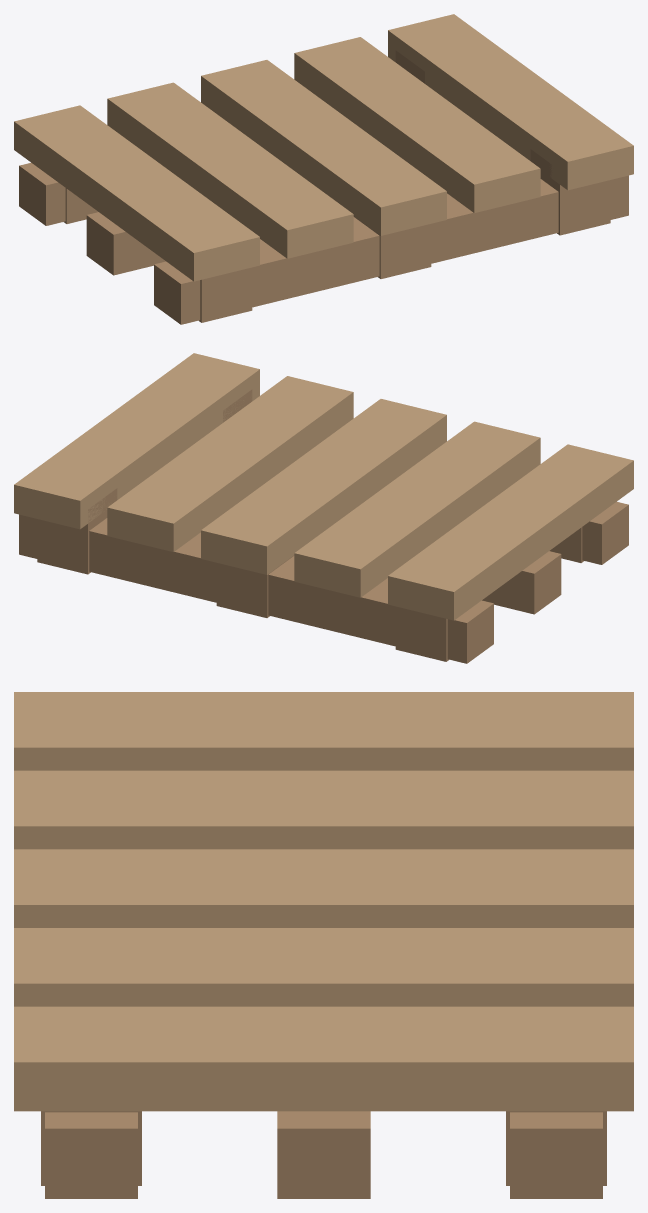
The model's file is pallet_lod1.glb.
3 views of the same model, one above another, from view 1: azimuth 30°, elevation 25°; view 2: azimuth 150°, elevation 25°; view 3: azimuth 270°, elevation 25° (orthographic). The views are drawn at different scales.
Parts seen in each view (by area): view 1: top0, top1, top3, top2, top4, runner2, block0.460.3, runner1, block00.3, block-0.460.3, runner0, block-0.46-0.3; view 2: top0, top1, top3, top2, top4, runner0, block0.46-0.3, runner1, block0-0.3, block-0.46-0.3, runner2, block-0.460.3; view 3: top4, top1, top0, top2, top3, runner1, runner0, runner2, block0.46-0.3, block0.460.3.
Part boxes in pixels (bbox=[...]): top0: bbox=[14, 105, 259, 281]; top1: bbox=[107, 82, 353, 258]; top3: bbox=[294, 37, 540, 212]; top2: bbox=[201, 60, 446, 235]; top4: bbox=[388, 14, 633, 190]; runner2: bbox=[154, 175, 628, 324]; block0.460.3: bbox=[530, 149, 610, 235]; runner1: bbox=[86, 212, 165, 275]; block00.3: bbox=[354, 216, 431, 278]; block-0.460.3: bbox=[199, 267, 252, 322]; runner0: bbox=[19, 162, 65, 225]; block-0.46-0.3: bbox=[64, 188, 97, 223]; top0: bbox=[388, 444, 633, 620]; top1: bbox=[294, 421, 540, 597]; top3: bbox=[107, 376, 353, 551]; top2: bbox=[201, 399, 446, 574]; top4: bbox=[14, 353, 259, 529]; runner0: bbox=[19, 514, 493, 663]; block0.46-0.3: bbox=[37, 488, 117, 574]; runner1: bbox=[482, 551, 561, 614]; block0-0.3: bbox=[216, 555, 293, 617]; block-0.46-0.3: bbox=[395, 606, 448, 661]; runner2: bbox=[582, 501, 628, 564]; block-0.460.3: bbox=[550, 527, 583, 562]; top4: bbox=[14, 1006, 633, 1111]; top1: bbox=[14, 770, 633, 849]; top0: bbox=[14, 692, 633, 770]; top2: bbox=[14, 849, 633, 927]; top3: bbox=[14, 928, 633, 1006]; runner1: bbox=[277, 1111, 370, 1198]; runner0: bbox=[510, 1112, 602, 1198]; runner2: bbox=[45, 1112, 137, 1198]; block0.46-0.3: bbox=[506, 1111, 606, 1185]; block0.460.3: bbox=[41, 1111, 141, 1185].
Size of the model in its own units: 1.15 by 0.195 by 0.8.
